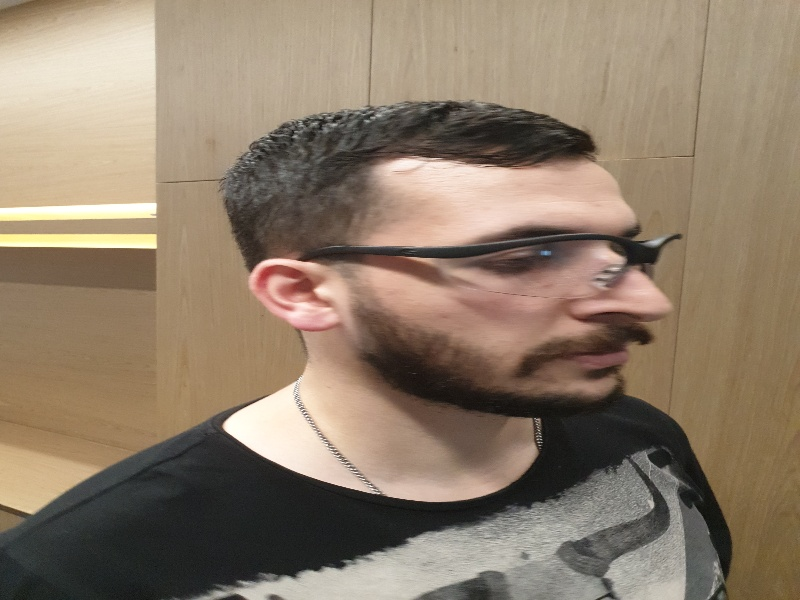Gozluk: (291, 229, 684, 305)
